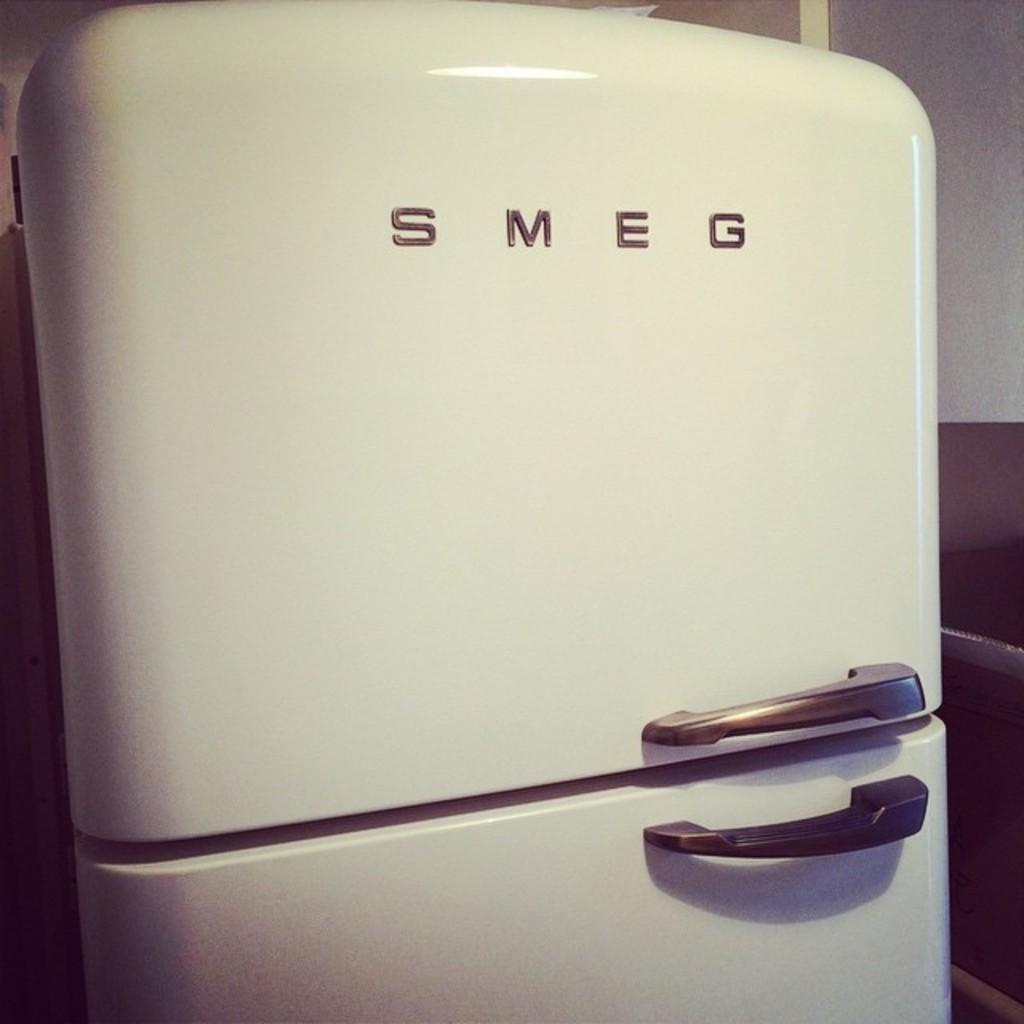handle: (624, 650, 934, 754), (646, 799, 936, 886)
